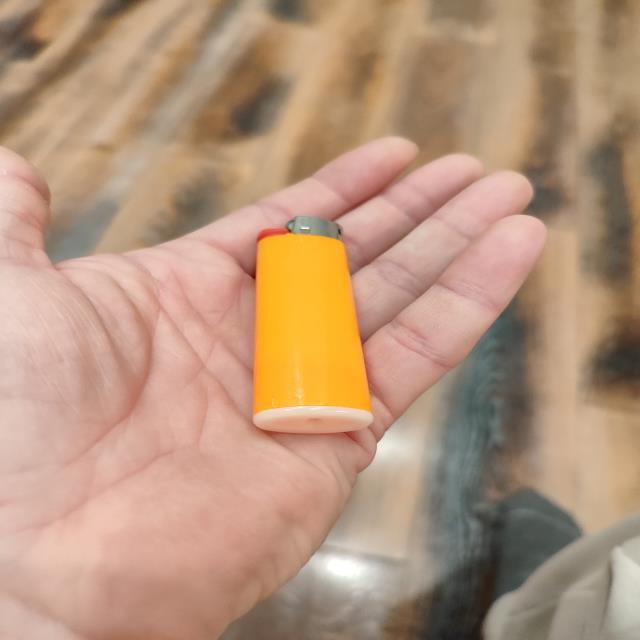lighter: (254, 217, 371, 433)
